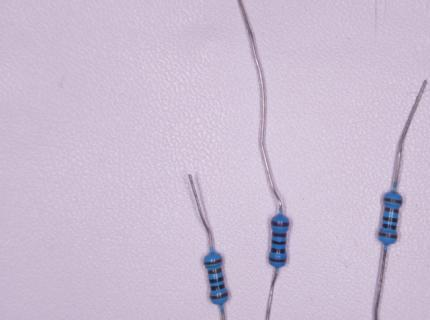Black band: (209, 276, 223, 284), (211, 283, 225, 291), (383, 217, 398, 223), (383, 224, 397, 230), (271, 248, 285, 253), (272, 240, 286, 245)
Brown band: (210, 292, 228, 300), (271, 220, 289, 227), (205, 258, 222, 265), (383, 198, 402, 204), (384, 207, 399, 214), (380, 233, 398, 238), (208, 268, 222, 274), (269, 258, 286, 262), (272, 233, 287, 237)
